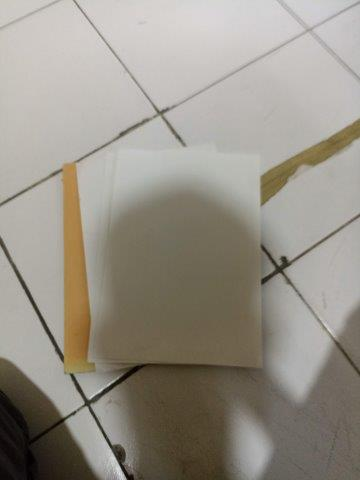kertas: (63, 142, 263, 374)
